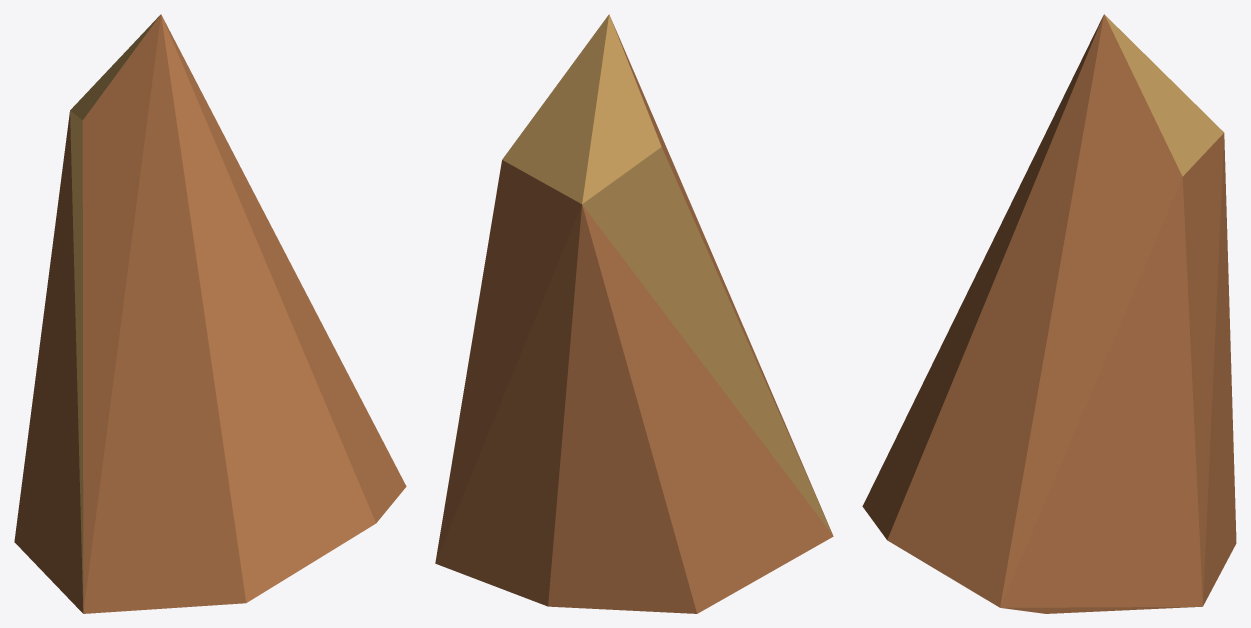
The model's file is PineTree_Autumn_3.lod4.glb.
The picture shows the model from 3 angles, left to right: view 1: azimuth 30°, elevation 25°; view 2: azimuth 150°, elevation 25°; view 3: azimuth 270°, elevation 25°; orthographic projection. The views are drawn at different scales.
Parts seen in each view (by area): view 1: PineTree_Autumn_3; view 2: PineTree_Autumn_3; view 3: PineTree_Autumn_3.
Part boxes in pixels (x1,y1,x2,y2): PineTree_Autumn_3: (14,14,406,613); PineTree_Autumn_3: (435,14,833,613); PineTree_Autumn_3: (862,14,1236,613).
Size of the model in its own units: 2.11 by 3.36 by 1.95.
